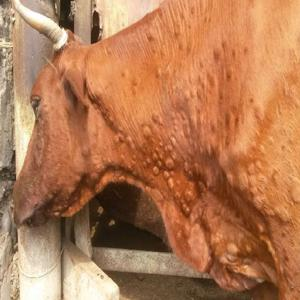lumpy skin diesease: (9, 0, 299, 299)
